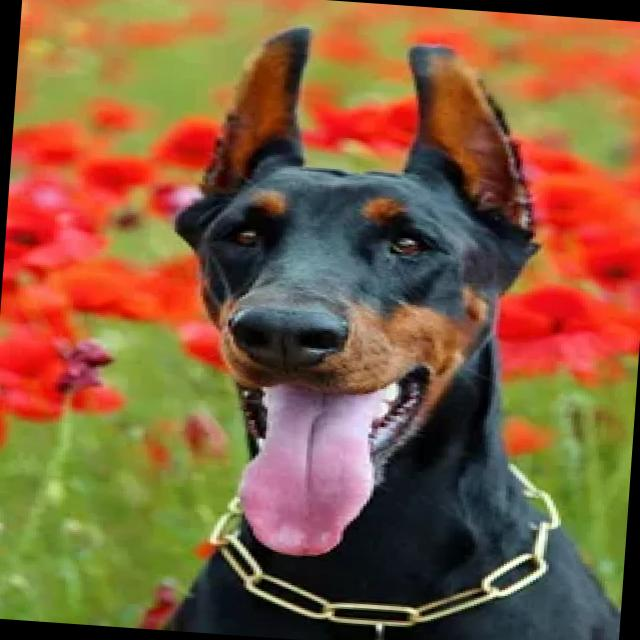Dog: (150, 17, 560, 640)
